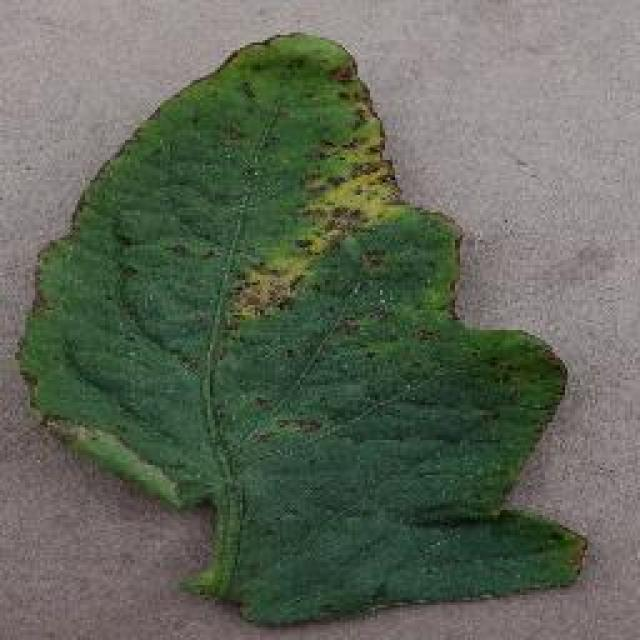Tomato___Bacterial_spot: (14, 28, 589, 633)
